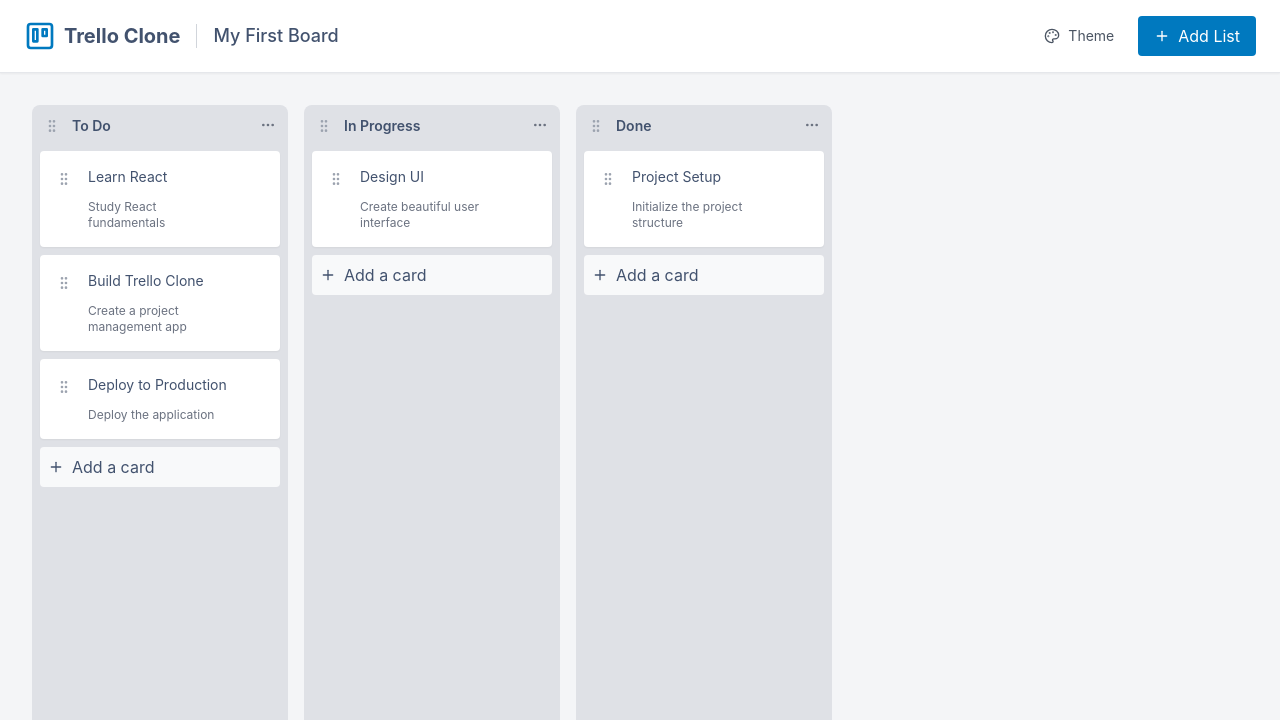
Trello Clone App - Integration Tests › List Management › adds a new list when Add List button is clicked
This screenshot has width=1280, height=720.
Click the button "Add List": coordinates (1197, 36) [1138,16,1256,56]
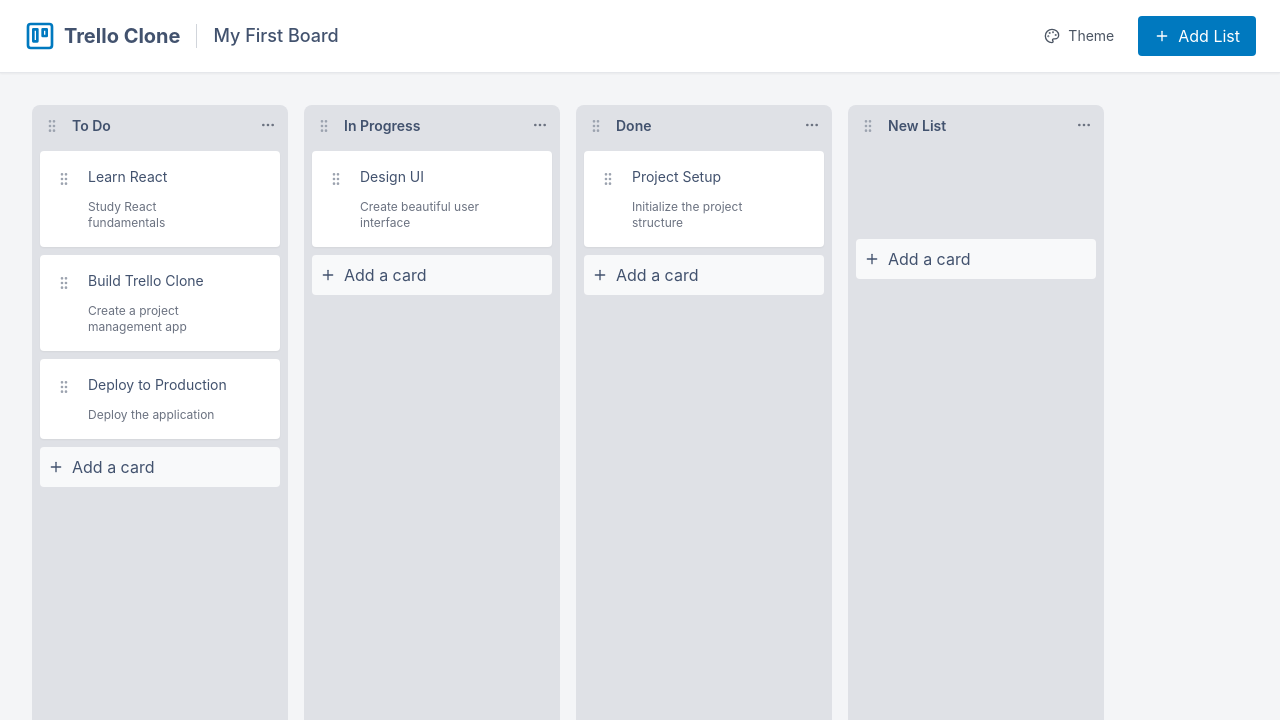
Expected: the heading "New List" is shown, [888,117,946,134]
